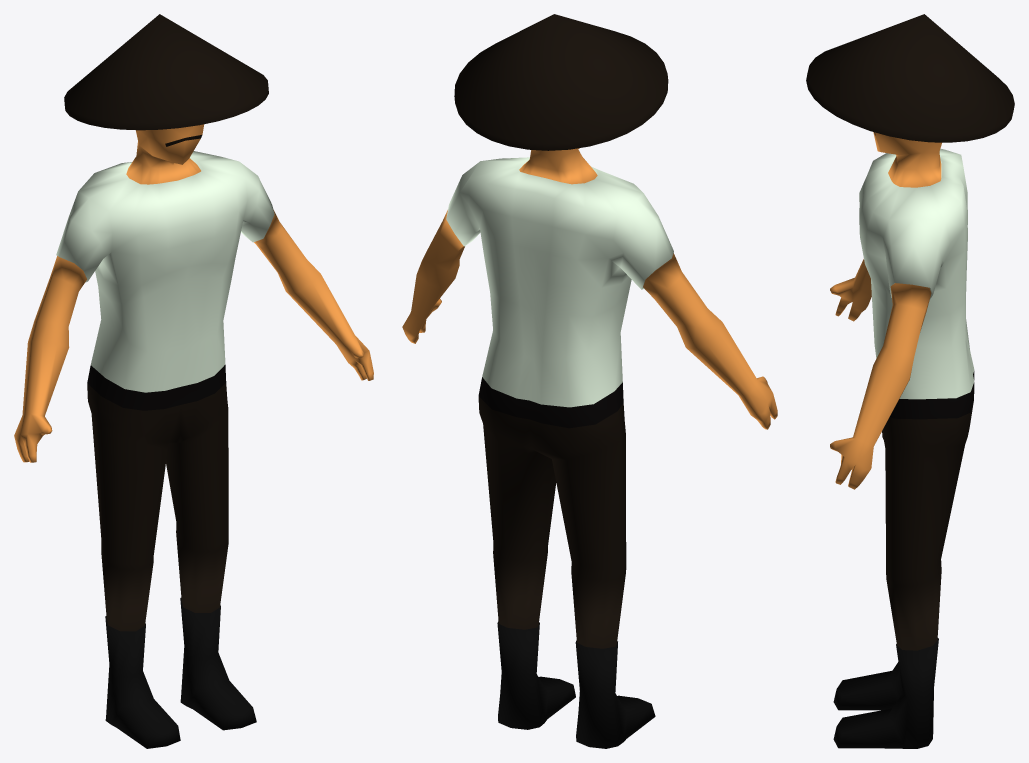
File: people.obj
3 views of the same model, side by side, from view 1: azimuth 30°, elevation 25°; view 2: azimuth 150°, elevation 25°; view 3: azimuth 270°, elevation 25° (orthographic). The views are drawn at different scales.
Visible parts, largest first — view 1: Cube; view 2: Cube; view 3: Cube.
Part boxes in pixels (x1,y1,x2,y2): Cube: [14, 14, 373, 748]; Cube: [402, 14, 777, 748]; Cube: [806, 14, 1014, 748].
Size of the model in its own units: 1.72 by 3.29 by 0.8819.
